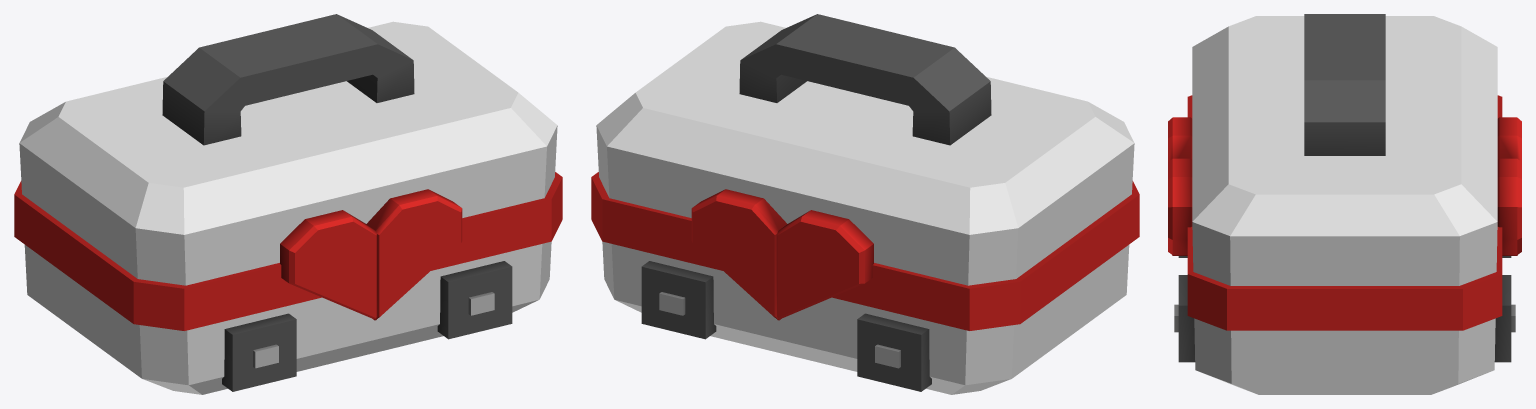
Rendered from medkit.glb.
3 views of the same model, side by side, from view 1: azimuth 30°, elevation 25°; view 2: azimuth 150°, elevation 25°; view 3: azimuth 270°, elevation 25° (orthographic).
Parts seen in each view (by area): view 1: medkit; view 2: medkit; view 3: medkit.
Part boxes in pixels (x1,y1,x2,y2): medkit: (14,14,562,394); medkit: (591,14,1139,394); medkit: (1168,14,1521,394).
Bounding box in the file's own units: 0.36 × 0.22 × 0.26.
Materials: 1 (1 with a texture image).
